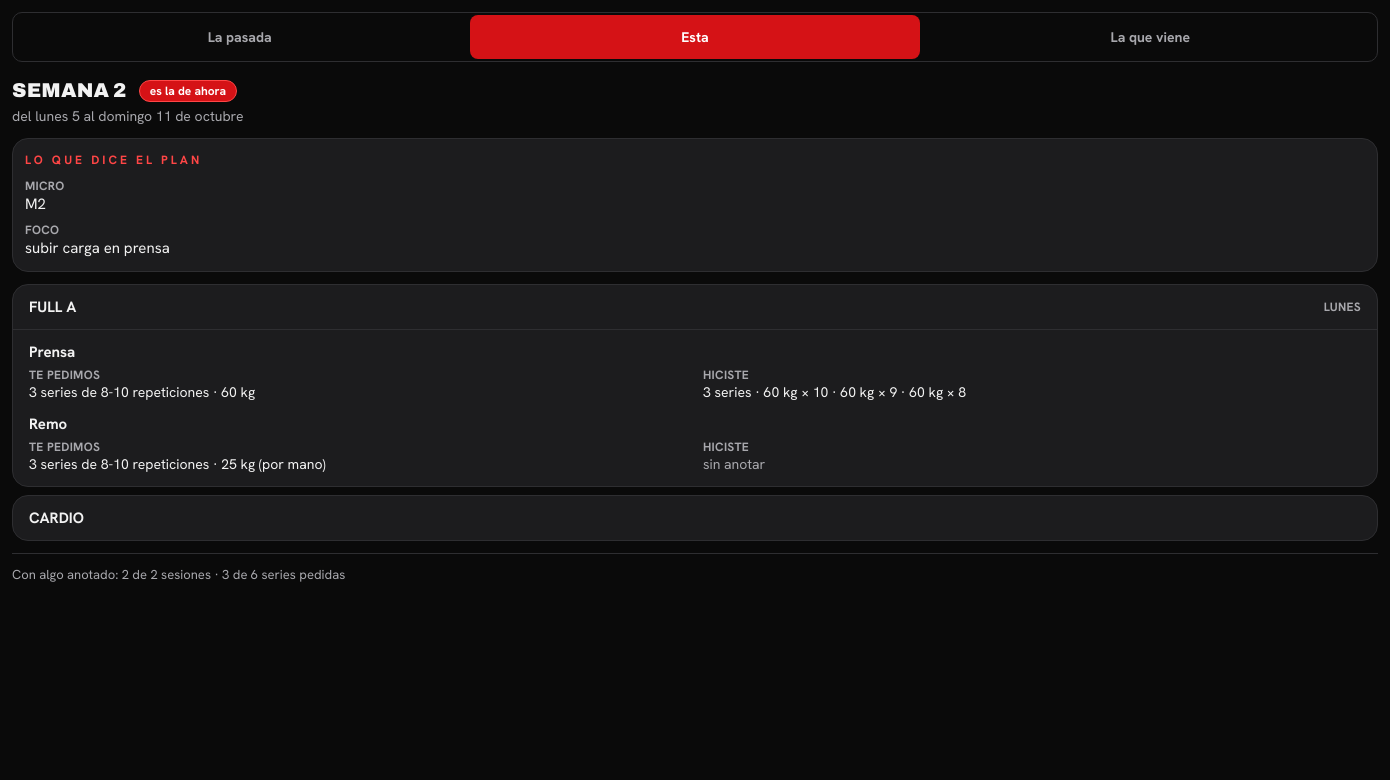
Scenario: SeccionTresSemanas › «La pasada» pinta su semana, sus sesiones y que ya pasó
The width and height of the screenshot is (1390, 780).
Click the button "La pasada": (240, 37) [15,15,464,59]
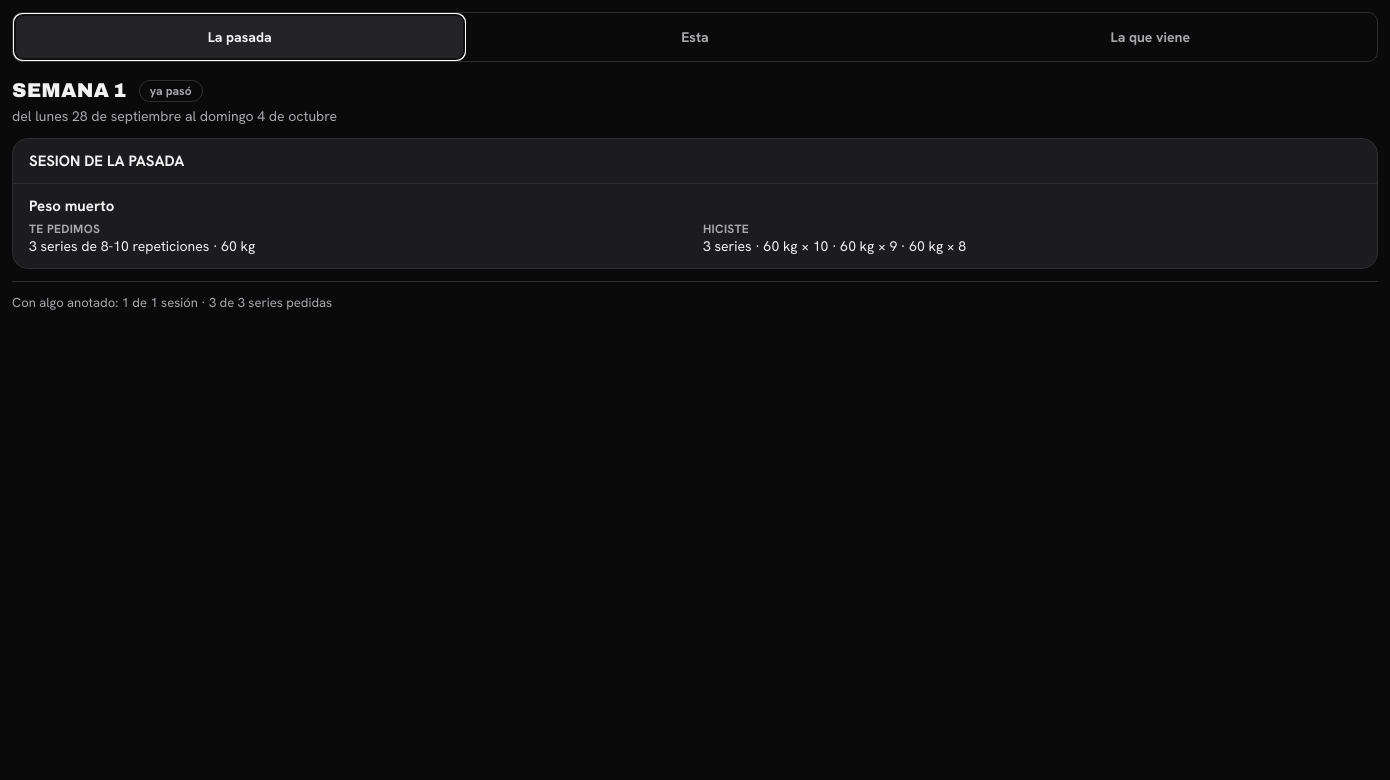
Expected: the heading "Semana 1" is shown, [12,78,127,103]
Expected: the text "del lunes 28 de septiembre al domingo 4 de octubre" is shown, [12,107,337,125]
Expected: the text "ya pasó" is shown, [139,80,203,102]
